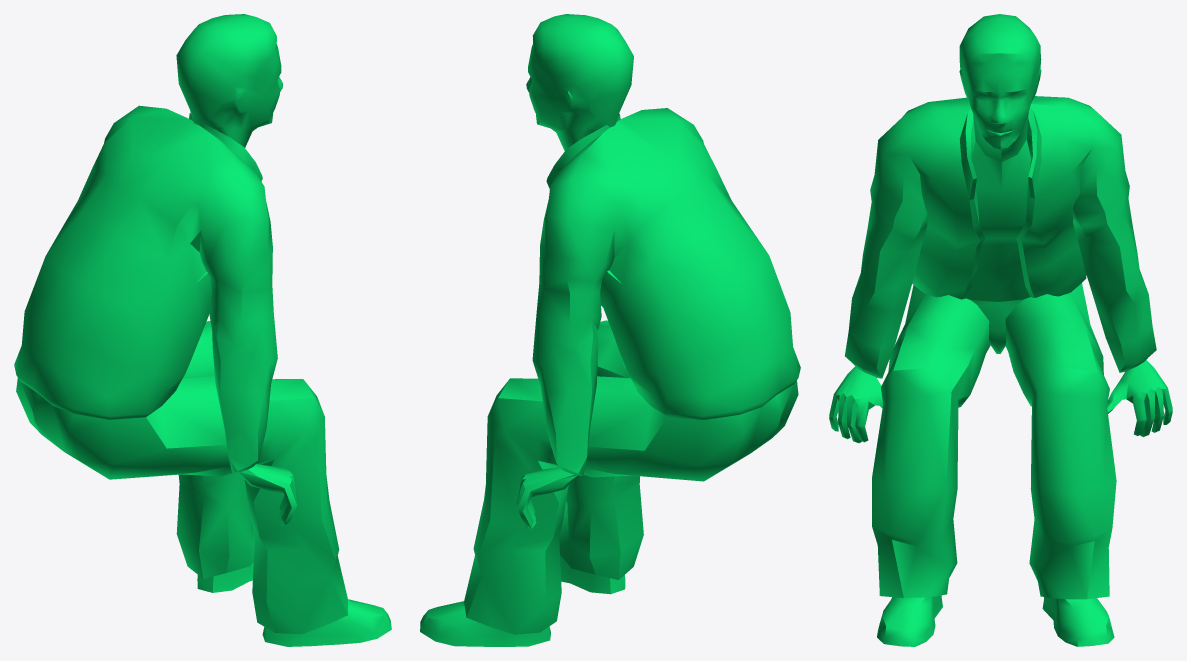
Rendered from SM_Man_Sit02.glb.
3 views of the same model, side by side, from view 1: azimuth 30°, elevation 25°; view 2: azimuth 150°, elevation 25°; view 3: azimuth 270°, elevation 25° (orthographic). The views are drawn at different scales.
Parts seen in each view (by area): view 1: SM_Man_Sit02; view 2: SM_Man_Sit02; view 3: SM_Man_Sit02.
Part boxes in pixels (x1=…): SM_Man_Sit02: x1=14, y1=14, x2=391, y2=646; SM_Man_Sit02: x1=420, y1=14, x2=800, y2=646; SM_Man_Sit02: x1=829, y1=14, x2=1172, y2=646.
Bounding box in the file's own units: 0.7442 × 1.36 × 0.7373.
